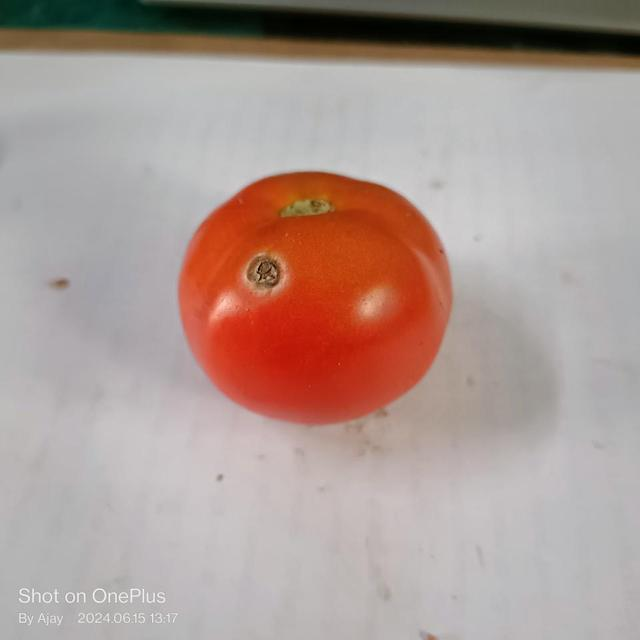Bacterial Spot Fruit: (162, 169, 193, 194)
